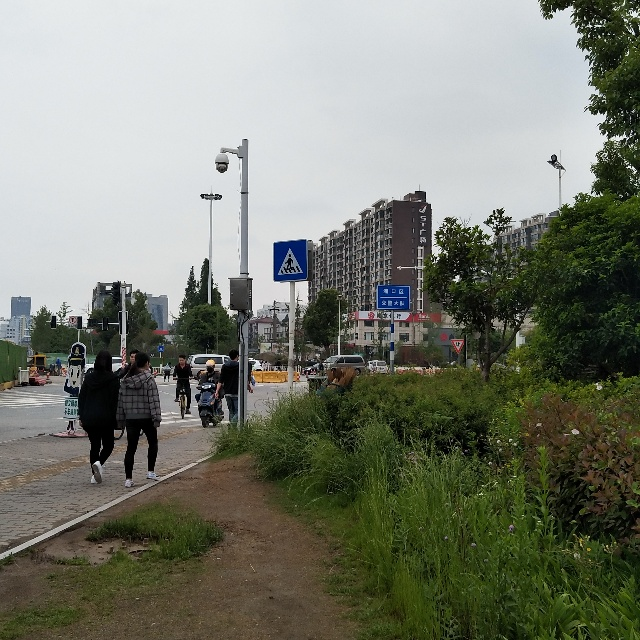crosswalk: (269, 243, 305, 280)
